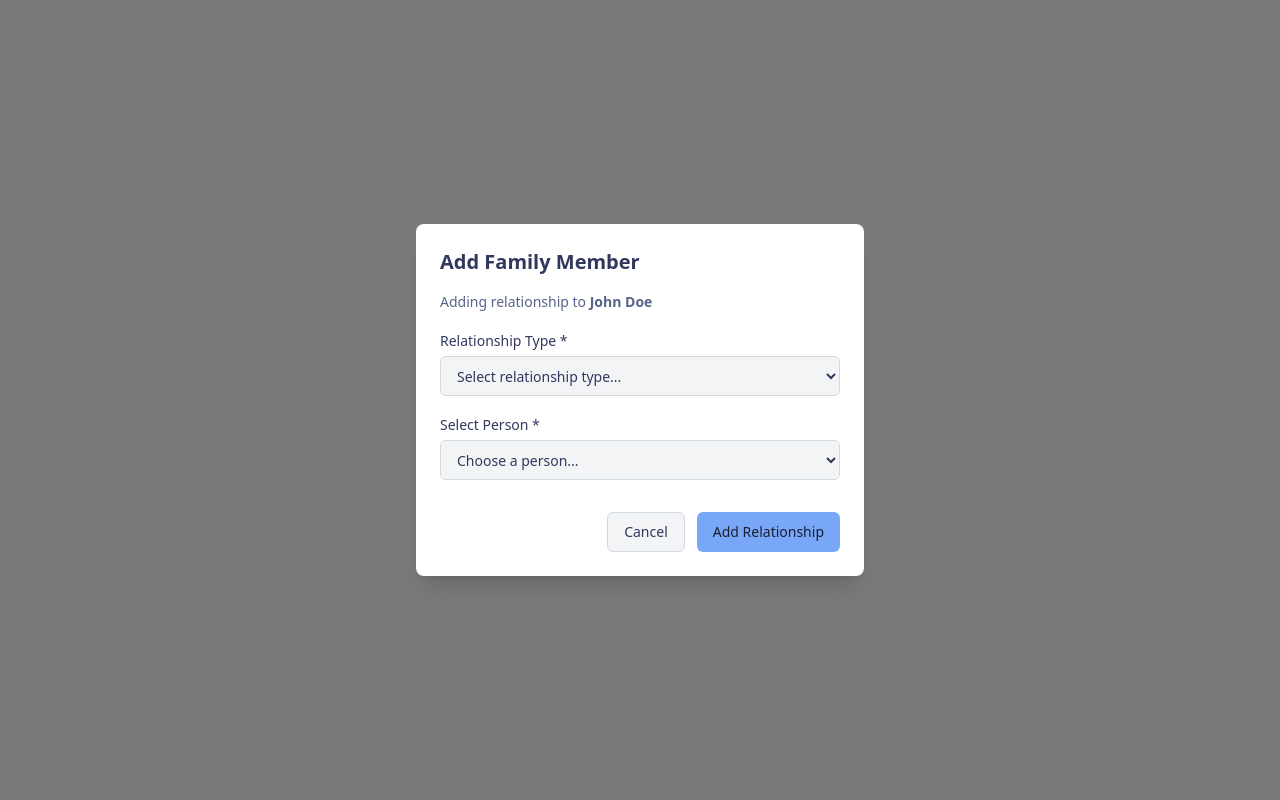
Scenario: RelationshipCreateModal › validation › should show error when no person selected
Expected: the dropdown labelled "Select Person *" is shown, [440, 440, 840, 480]
Step 1. Select "Parent" in the dropdown labelled "Relationship Type *" → (640, 376), box [440, 356, 840, 396]
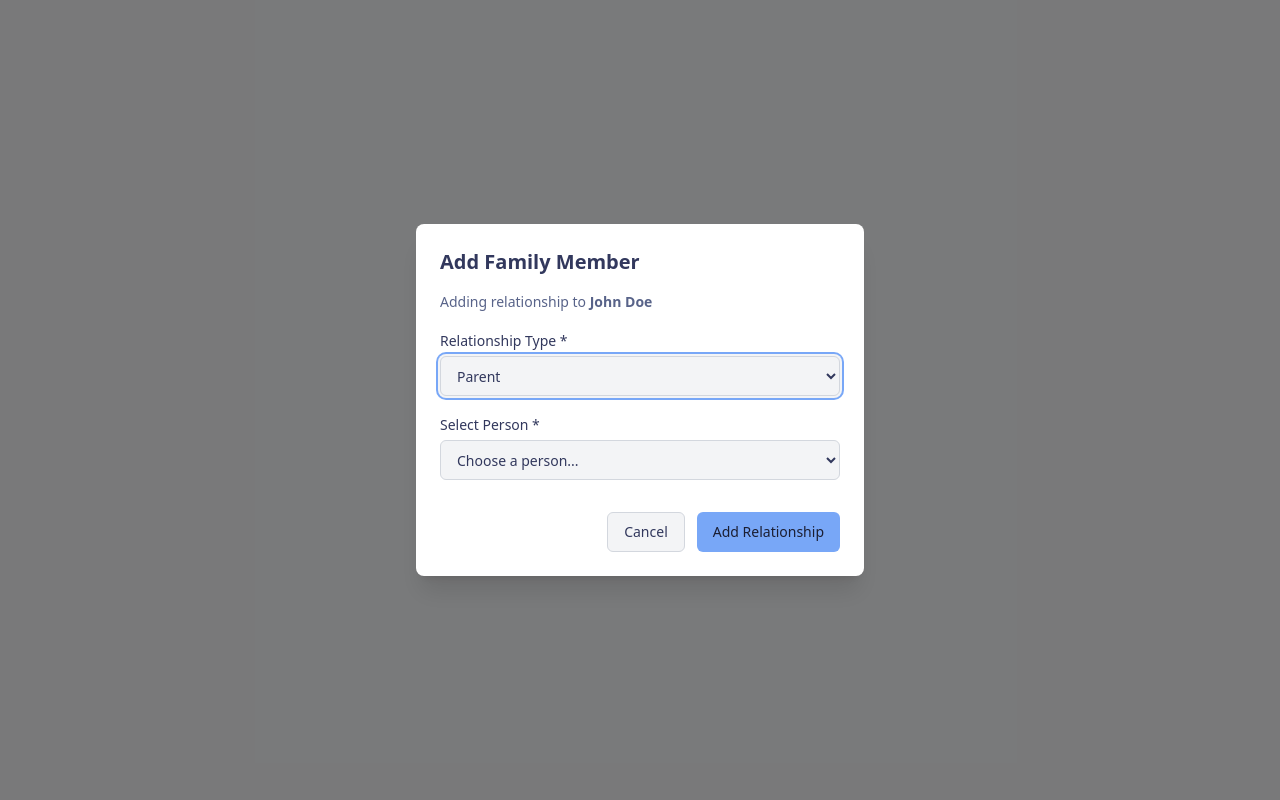
# Don't select a person
Step 2. Click the button "Add Relationship" → (768, 532), box [697, 512, 840, 552]
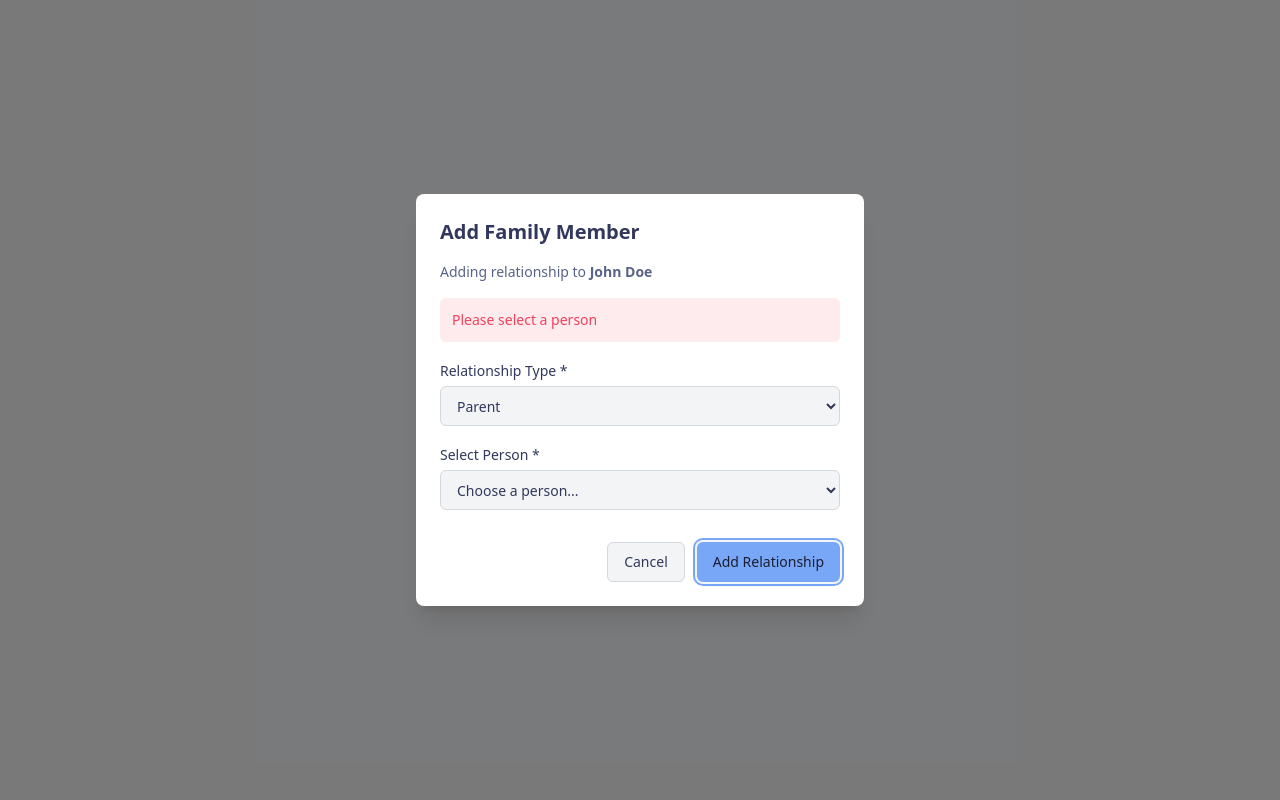
Expected: the text "Please select a person" is shown, [440, 298, 840, 342]
